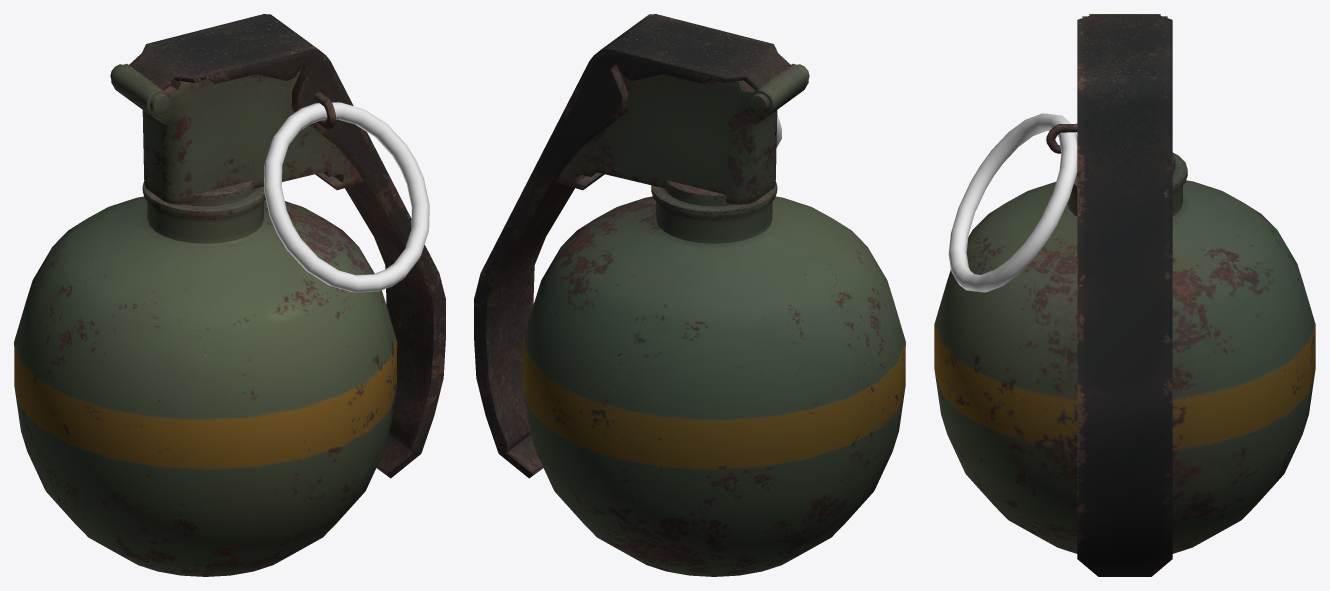
The model's file is Grenade1.fbx.
The picture shows the model from 3 angles, left to right: view 1: azimuth 30°, elevation 25°; view 2: azimuth 150°, elevation 25°; view 3: azimuth 270°, elevation 25°; orthographic projection.
Visible parts, largest first — view 1: grenade_1, ring; view 2: grenade_1; view 3: grenade_1, ring.
Part boxes in pixels (box(x1,y1,x2,y2)): grenade_1: box(14, 14, 445, 576); ring: box(264, 102, 429, 292); grenade_1: box(474, 14, 905, 576); grenade_1: box(934, 14, 1315, 576); ring: box(948, 113, 1077, 292).
Bounding box in the file's own units: 13.49 × 17.04 × 11.71.
Materials: 1 (1 with a texture image).
